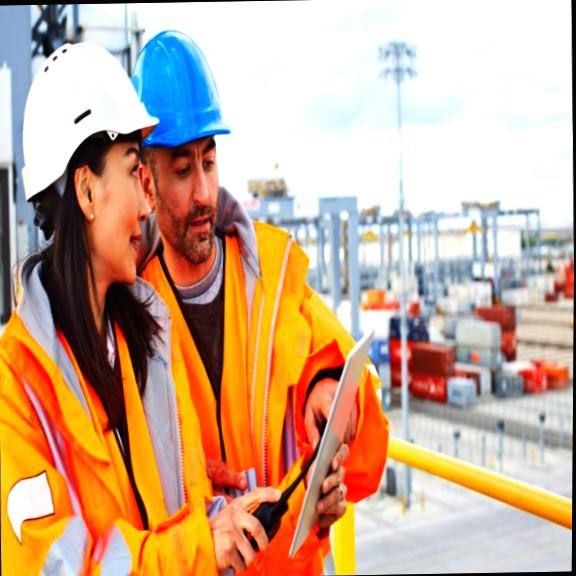safety_vest: (135, 237, 370, 576), (0, 273, 212, 574)
